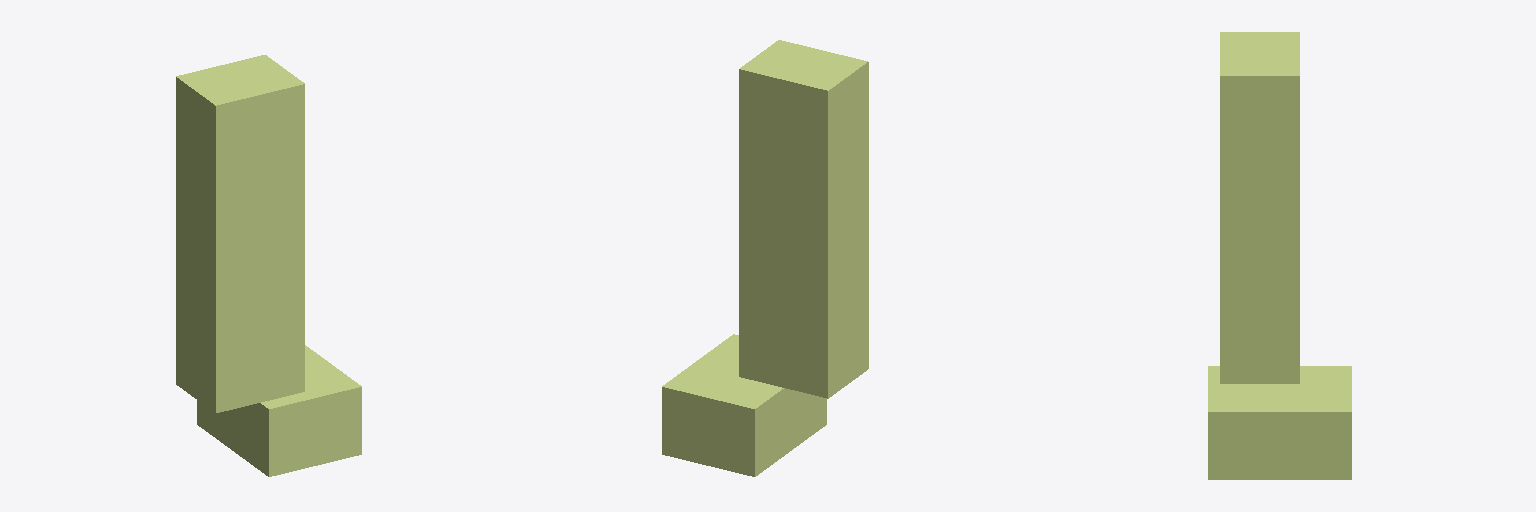
The model's file is gripper3_1.obj.
3 renders of one model, left to right at view 1: azimuth 30°, elevation 25°; view 2: azimuth 150°, elevation 25°; view 3: azimuth 270°, elevation 25°, orthographic.
Parts seen in each view (by area): view 1: Box001; view 2: Box001; view 3: Box001.
Boxes of the visible parts, x1=… form: Box001: x1=176, y1=55, x2=361, y2=476; Box001: x1=662, y1=40, x2=868, y2=476; Box001: x1=1208, y1=32, x2=1351, y2=479.
Bounding box in the file's own units: 0.1151 × 0.2962 × 0.1017.